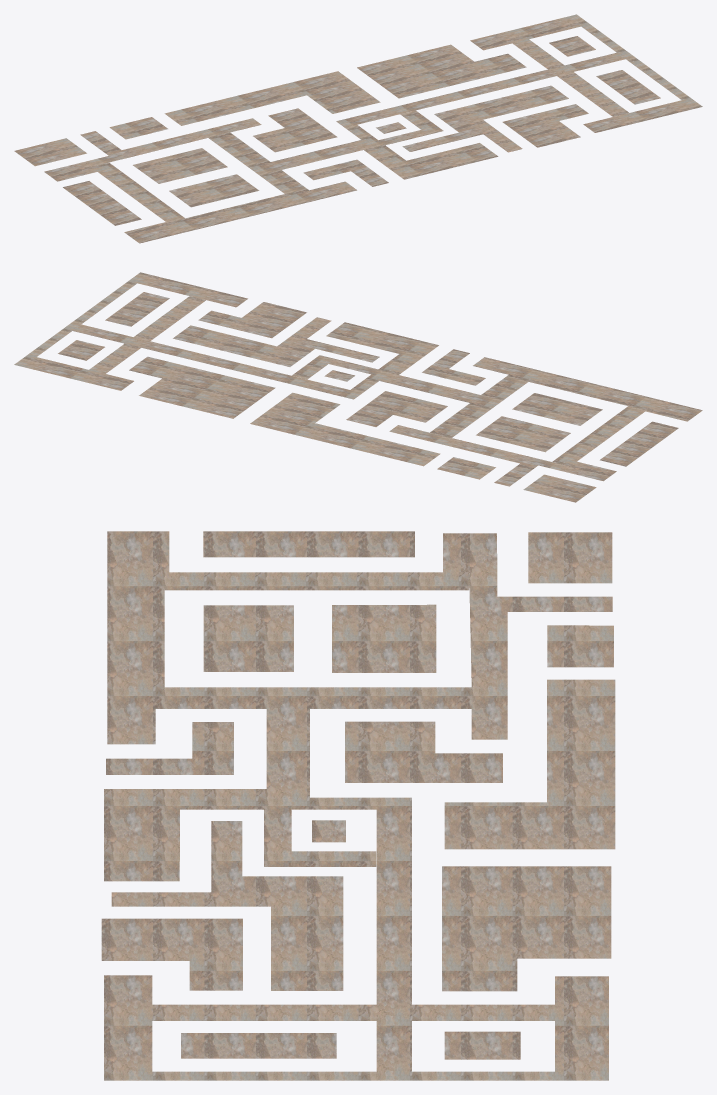
The model's file is newHallway3.fbx.
3 views of the same model, one above another, from view 1: azimuth 30°, elevation 25°; view 2: azimuth 150°, elevation 25°; view 3: azimuth 270°, elevation 25° (orthographic). The views are drawn at different scales.
Visible parts, largest first — view 1: hallway4; view 2: hallway4; view 3: hallway4.
Part boxes in pixels (x1,y1,x2,y2): hallway4: (14, 14, 702, 243); hallway4: (14, 272, 702, 502); hallway4: (101, 531, 615, 1080).
Bounding box in the file's own units: 5.22 × 0 × 2.06.
Materials: 1 (1 with a texture image).
